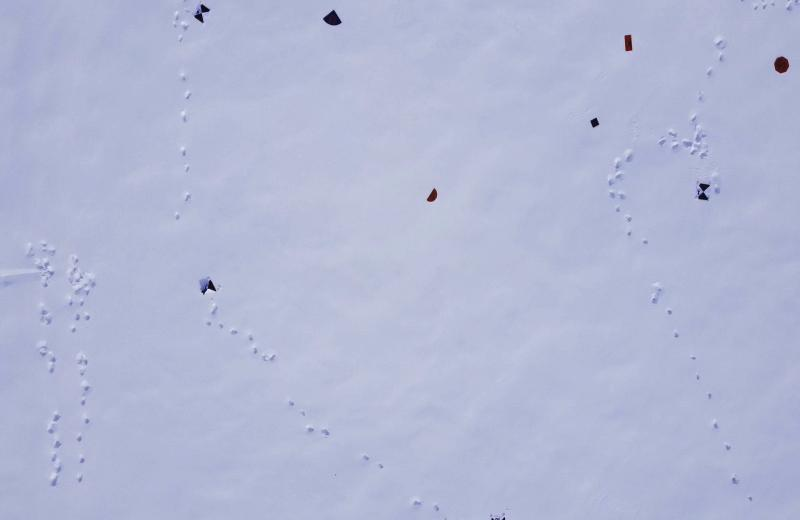Octagon: (774, 56, 790, 74)
Quarter Circle: (322, 9, 343, 28)
Rectangle: (624, 33, 634, 53)
Semi Circle: (426, 187, 438, 202)
Square: (589, 117, 600, 129)
